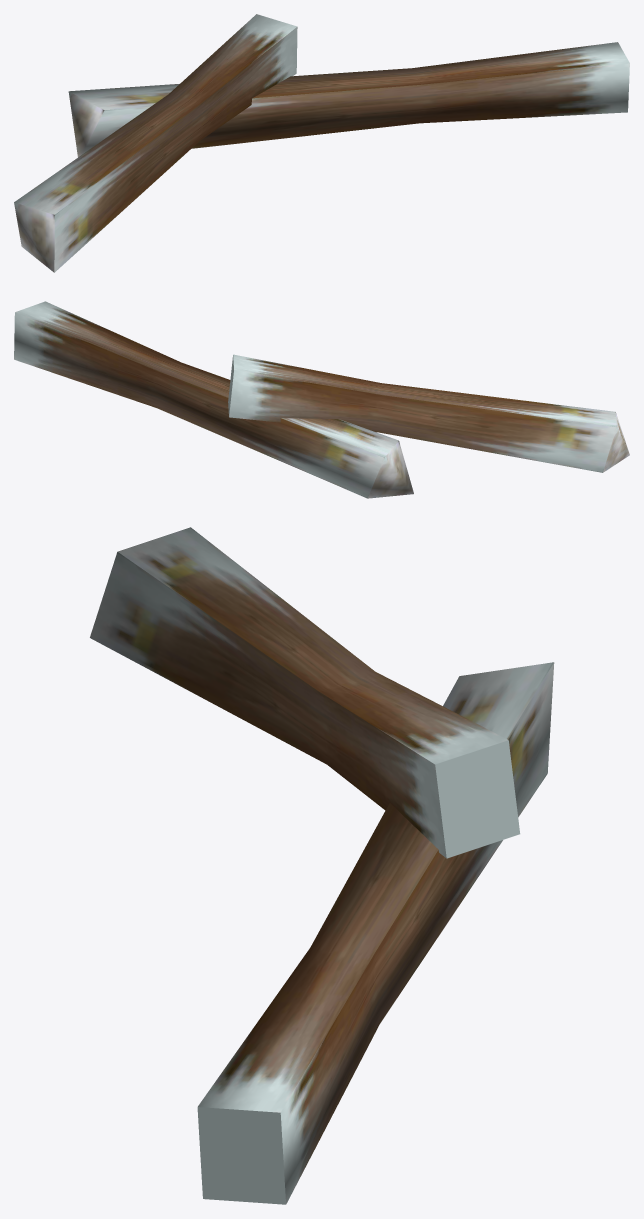
The model's file is h5_xuezawu_e.FBX.
3 renders of one model, top to bottom at view 1: azimuth 30°, elevation 25°; view 2: azimuth 150°, elevation 25°; view 3: azimuth 270°, elevation 25°, orthographic. The views are drawn at different scales.
Visible parts, largest first — view 1: h5_xuezawu_e; view 2: h5_xuezawu_e; view 3: h5_xuezawu_e.
Part boxes in pixels (bbox=[...]): h5_xuezawu_e: bbox=[14, 14, 629, 272]; h5_xuezawu_e: bbox=[14, 301, 629, 498]; h5_xuezawu_e: bbox=[90, 527, 554, 1204].
Bounding box in the file's own units: 1.26 × 0.207 × 0.4371.
